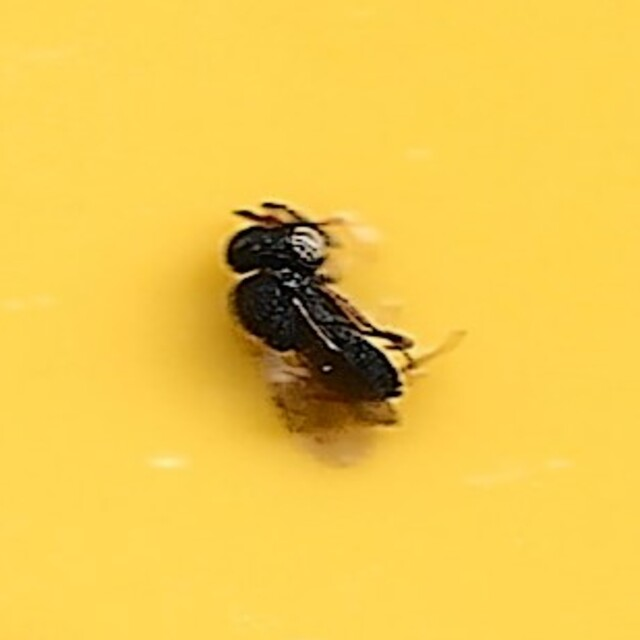Hymenoptera: (207, 183, 433, 457)
